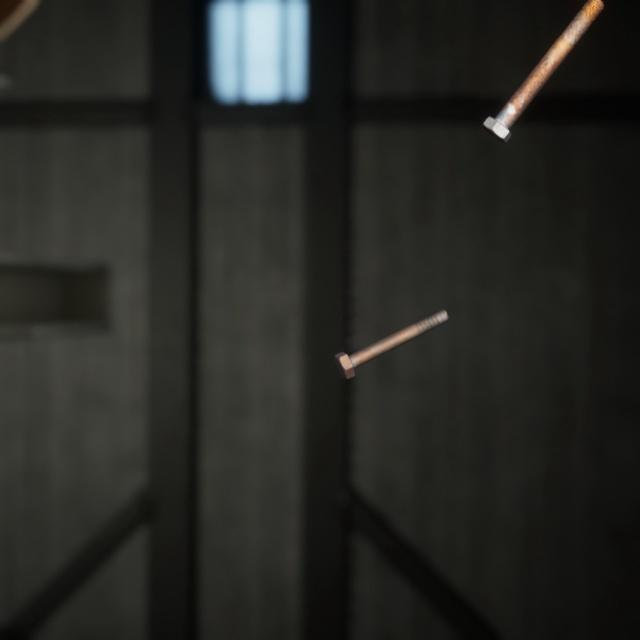bolt: (478, 0, 606, 136), (329, 287, 453, 366)
